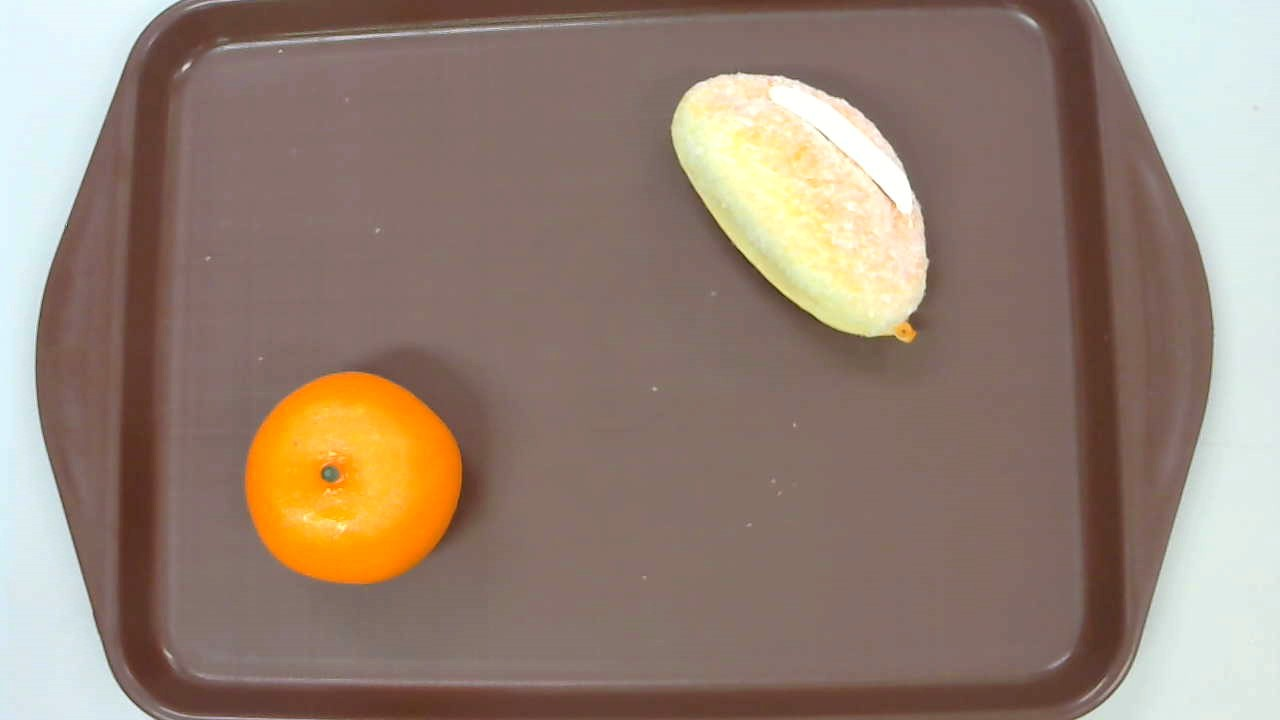coconut: (670, 70, 932, 343)
orange: (243, 370, 462, 586)
